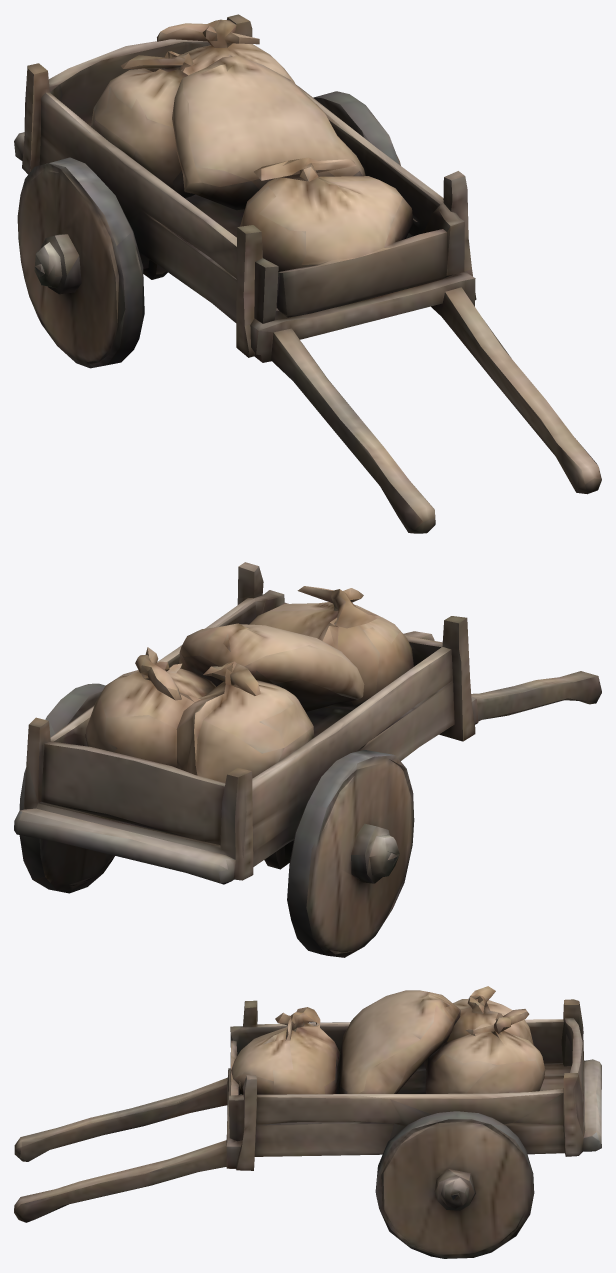
Rendered from prop-handcart.glb.
The picture shows the model from 3 angles, top to bottom: view 1: azimuth 30°, elevation 25°; view 2: azimuth 150°, elevation 25°; view 3: azimuth 270°, elevation 25°; orthographic projection. The views are drawn at different scales.
Parts seen in each view (by area): view 1: prop-handcart; view 2: prop-handcart; view 3: prop-handcart.
Boxes of the visible parts, <box> form: prop-handcart: <box>14,14,601,533</box>; prop-handcart: <box>14,562,601,957</box>; prop-handcart: <box>14,986,601,1258</box>.
Size of the model in its own units: 1.68 by 1.24 by 3.2.
1 material, 1 textured.
